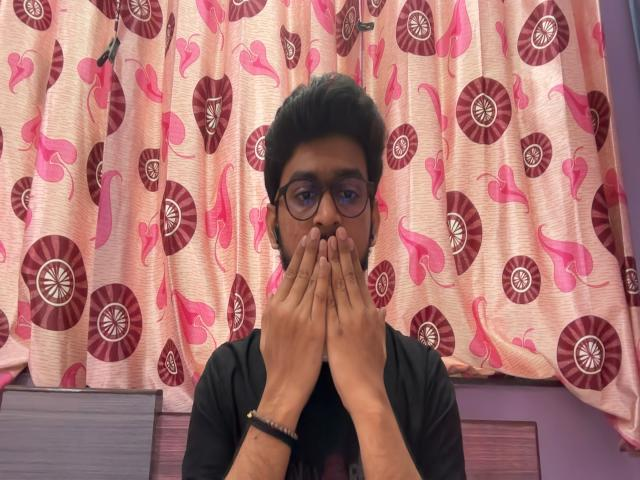Thanks: (255, 223, 399, 405)
